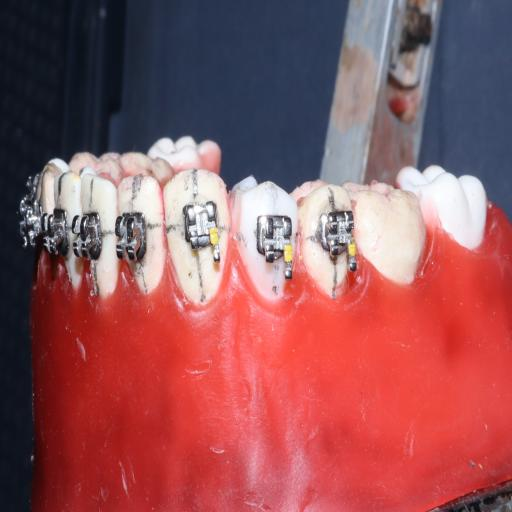correct_brace: (233, 173, 300, 308), (252, 208, 296, 283)
incorrect_brace: (180, 197, 224, 270)
